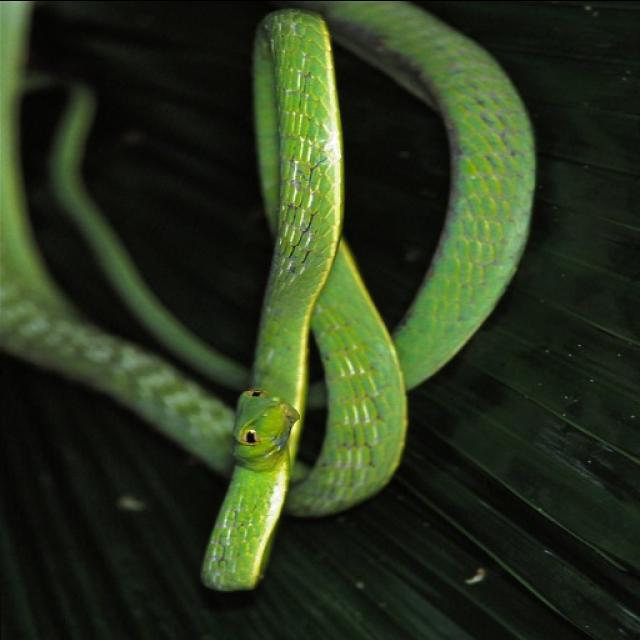snake: (134, 0, 387, 615)
